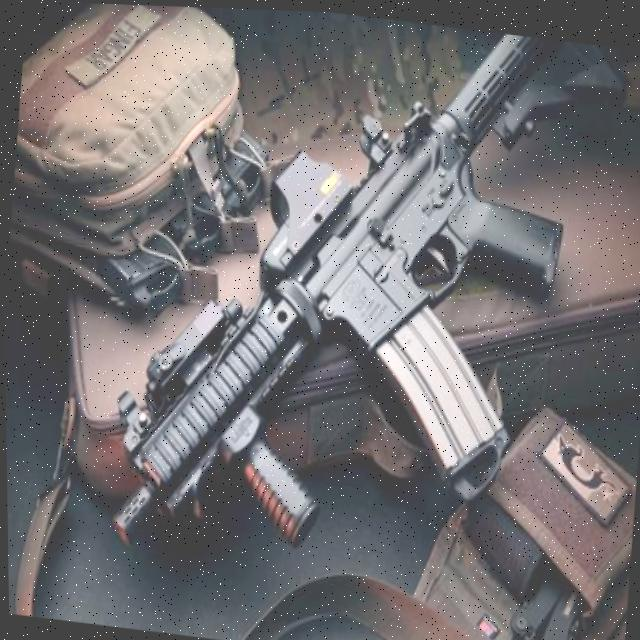firearm: (97, 3, 585, 593)
